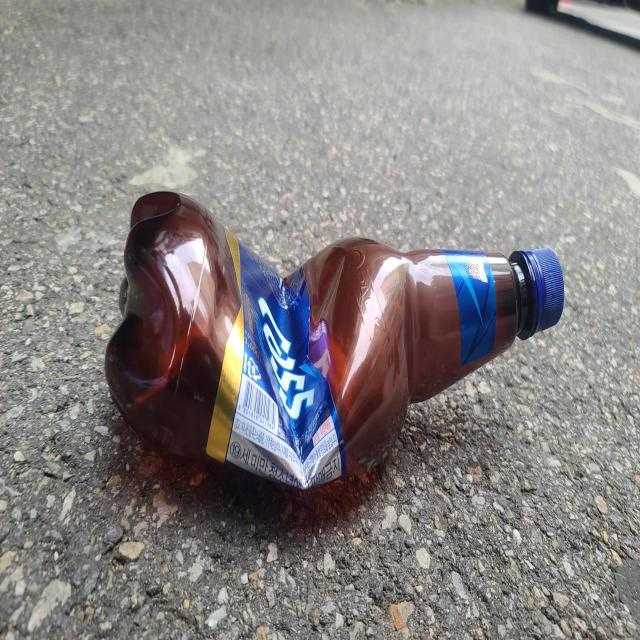plastic: (104, 190, 565, 488)
